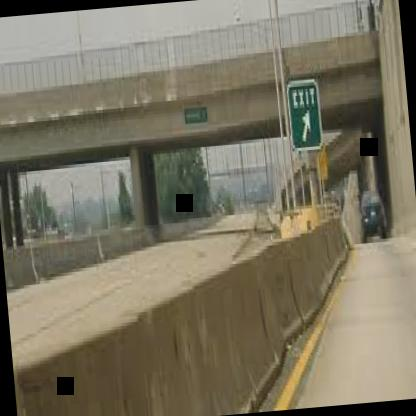car: (352, 186, 394, 250)
